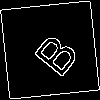B: (25, 25, 81, 80)
